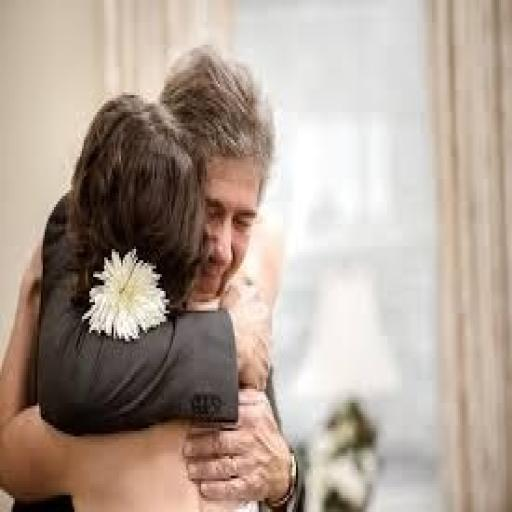hugging: (0, 42, 305, 509)
